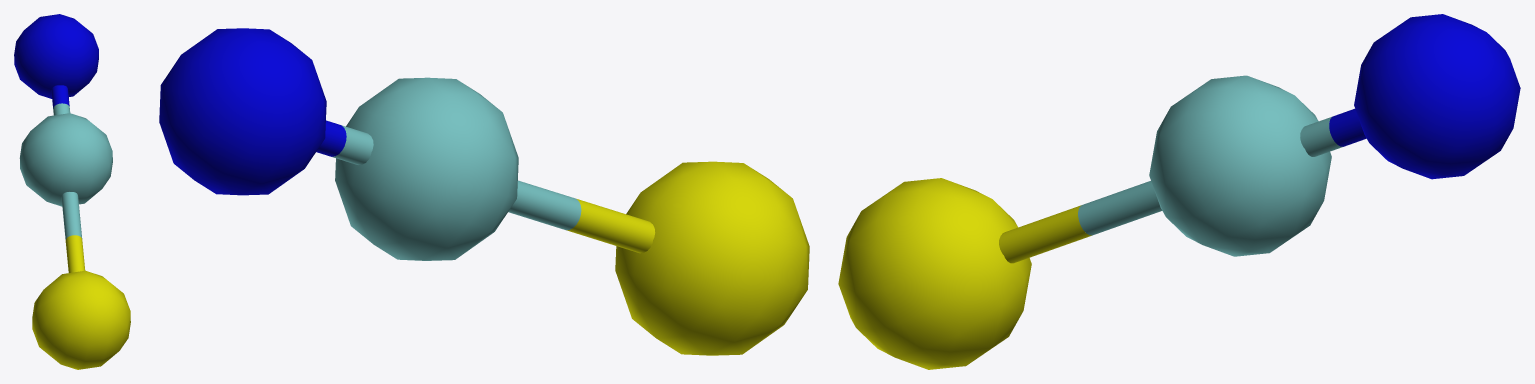
The model's file is SCN-.gltf.
3 renders of one model, left to right at view 1: azimuth 30°, elevation 25°; view 2: azimuth 150°, elevation 25°; view 3: azimuth 270°, elevation 25°, orthographic. The views are drawn at different scales.
Parts seen in each view (by area): view 1: vmd_mol0_rep0; view 2: vmd_mol0_rep0; view 3: vmd_mol0_rep0.
Boxes of the visible parts, bbox=[...] form: vmd_mol0_rep0: bbox=[14, 14, 130, 369]; vmd_mol0_rep0: bbox=[159, 28, 809, 355]; vmd_mol0_rep0: bbox=[838, 14, 1520, 369].
Size of the model in its own units: 0.9594 by 1.12 by 1.58.
